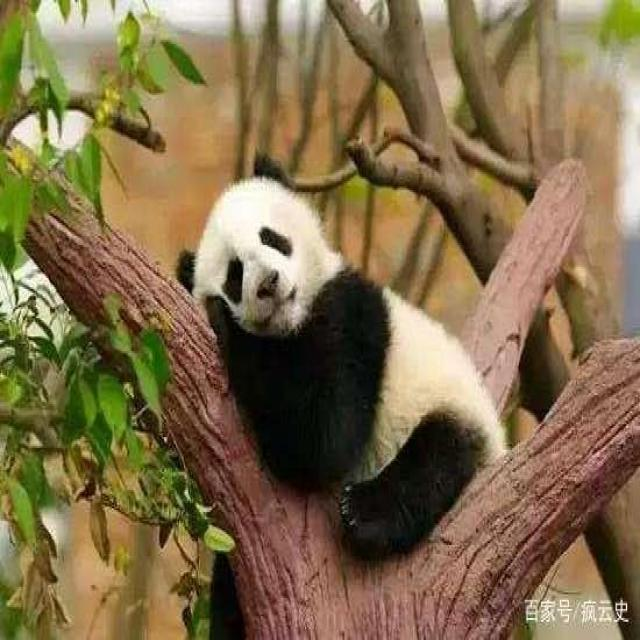panda: (168, 161, 560, 550)
